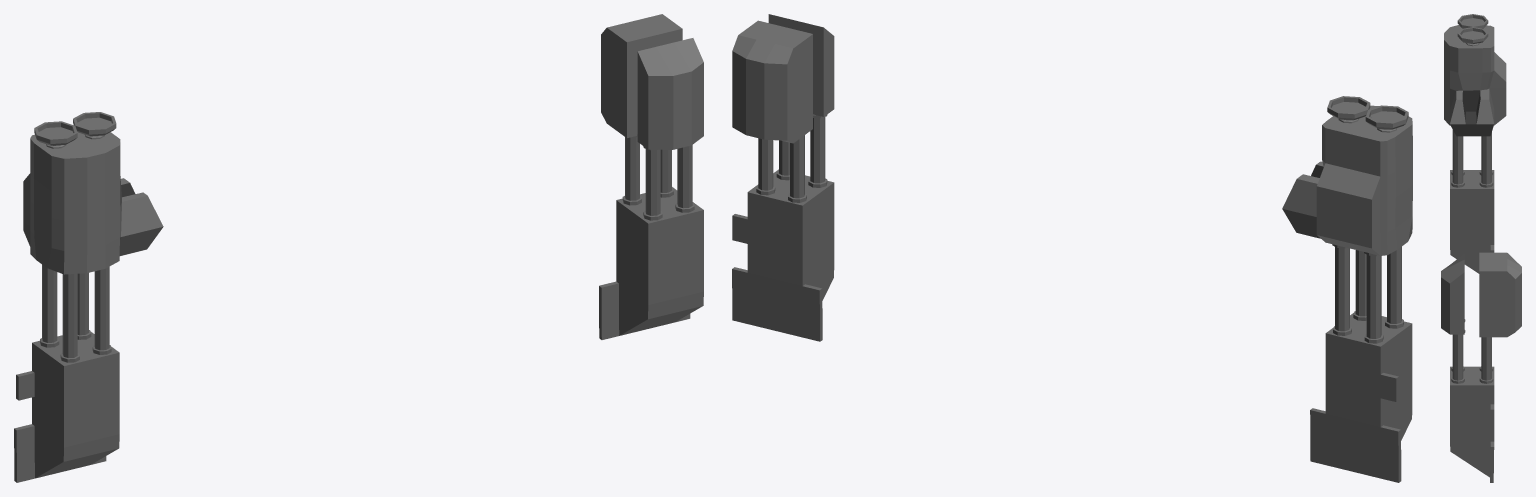
File: ramp_gate.glb
The picture shows the model from 3 angles, left to right: view 1: azimuth 30°, elevation 25°; view 2: azimuth 150°, elevation 25°; view 3: azimuth 270°, elevation 25°; orthographic projection. The views are drawn at different scales.
Visible parts, largest first — view 1: Cube.009, Cube.007, Cube.005, Cube.006, Cylinder.002, Cylinder.005, Cylinder.003, Cylinder.008, Cylinder.009, Cylinder.006, Cylinder.001; view 2: Cube.009, Cube.006, Cube.007, Cube.005, Cylinder.003, Cylinder.001, Cylinder.002, Cylinder.008, Cylinder.006, Cylinder.007, Cylinder.005; view 3: Cube.009, Cube.005, Cube.006, Cube.007, Cylinder.005, Cylinder.009, Cylinder.001, Cylinder.007.
Part boxes in pixels (box(x1,y1,x2,y2)): Cube.009: box(23, 112, 163, 274); Cube.007: box(14, 331, 119, 482); Cube.005: box(601, 14, 703, 149); Cube.006: box(599, 187, 703, 339); Cylinder.002: box(60, 273, 79, 362); Cylinder.005: box(92, 266, 111, 354); Cylinder.003: box(40, 264, 59, 347); Cylinder.008: box(643, 146, 662, 220); Cylinder.009: box(675, 145, 694, 212); Cylinder.006: box(622, 134, 641, 205); Cylinder.001: box(77, 273, 91, 339); Cube.009: box(1282, 96, 1412, 255); Cube.006: box(732, 169, 834, 341); Cube.007: box(1310, 313, 1412, 482); Cube.005: box(732, 14, 834, 143); Cylinder.003: box(1364, 252, 1383, 343); Cylinder.001: box(1332, 244, 1351, 335); Cylinder.002: box(1385, 246, 1403, 328); Cylinder.008: box(808, 114, 827, 187); Cylinder.006: box(788, 135, 806, 202); Cylinder.007: box(756, 138, 775, 195); Cylinder.005: box(1353, 250, 1366, 320); Cube.009: box(1444, 14, 1506, 136); Cube.005: box(1441, 252, 1521, 337); Cube.006: box(1450, 366, 1494, 482); Cube.007: box(1450, 170, 1494, 273); Cylinder.005: box(1451, 130, 1464, 187); Cylinder.009: box(1451, 330, 1465, 383); Cylinder.001: box(1479, 132, 1493, 187); Cylinder.007: box(1479, 337, 1493, 383).
Size of the model in its own units: 3.94 by 1.99 by 0.594.
Materials: 2 (1 with a texture image).
